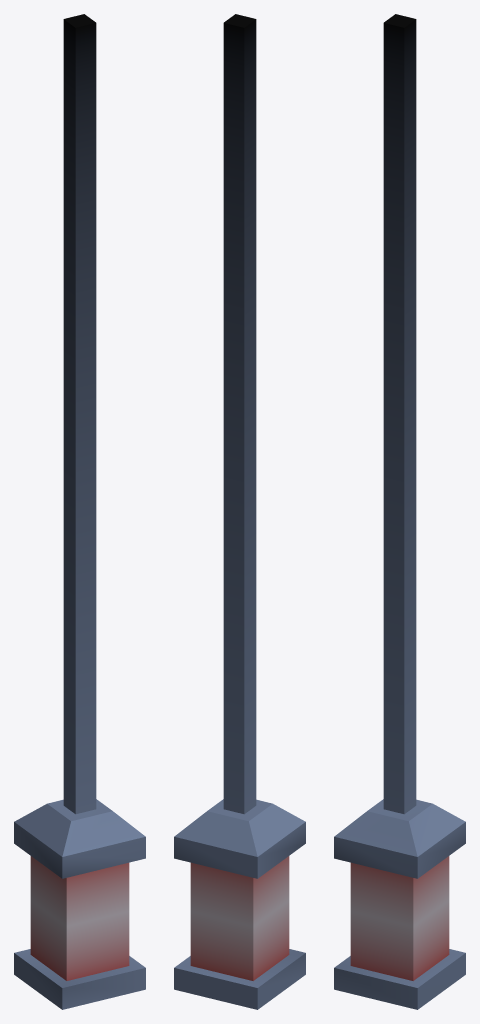
File: lantern.glb
3 renders of one model, left to right at view 1: azimuth 30°, elevation 25°; view 2: azimuth 150°, elevation 25°; view 3: azimuth 330°, elevation 25°, orthographic.
Visible parts, largest first — view 1: Lantern; view 2: Lantern; view 3: Lantern.
Boxes of the visible parts, x1=… form: Lantern: x1=14, y1=14, x2=145, y2=1009; Lantern: x1=174, y1=14, x2=305, y2=1009; Lantern: x1=334, y1=14, x2=465, y2=1009.
Size of the model in its own units: 0.3333 by 3.67 by 0.3333.
